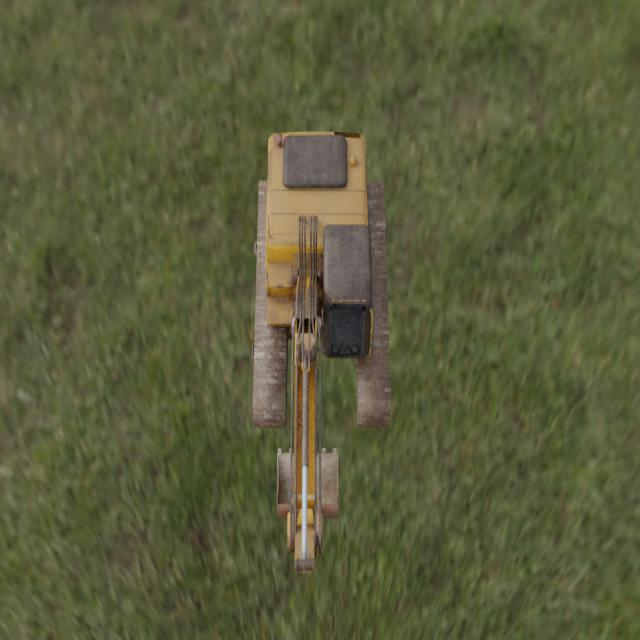excavator: (251, 132, 391, 573)
